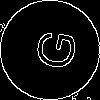G: (25, 25, 79, 73)
